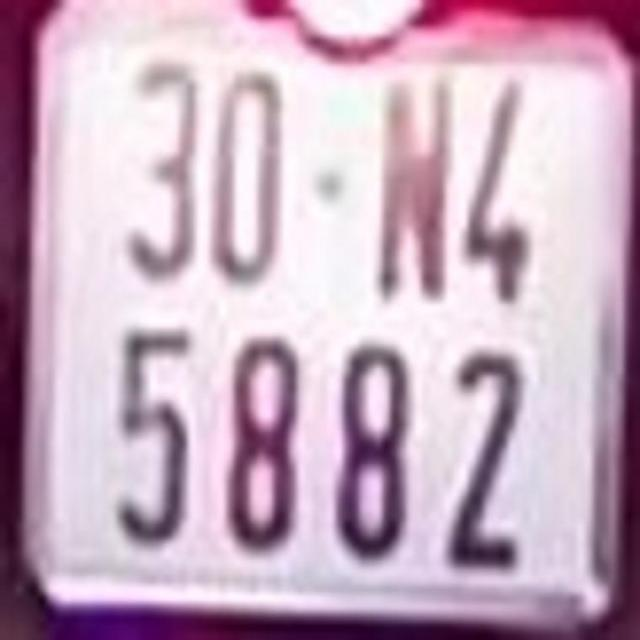0: (210, 60, 289, 287)
2: (436, 346, 532, 572)
3: (128, 59, 200, 284)
4: (465, 77, 532, 306)
5: (109, 321, 192, 546)
8: (334, 337, 413, 561), (224, 335, 300, 554)
N: (372, 75, 455, 304)
